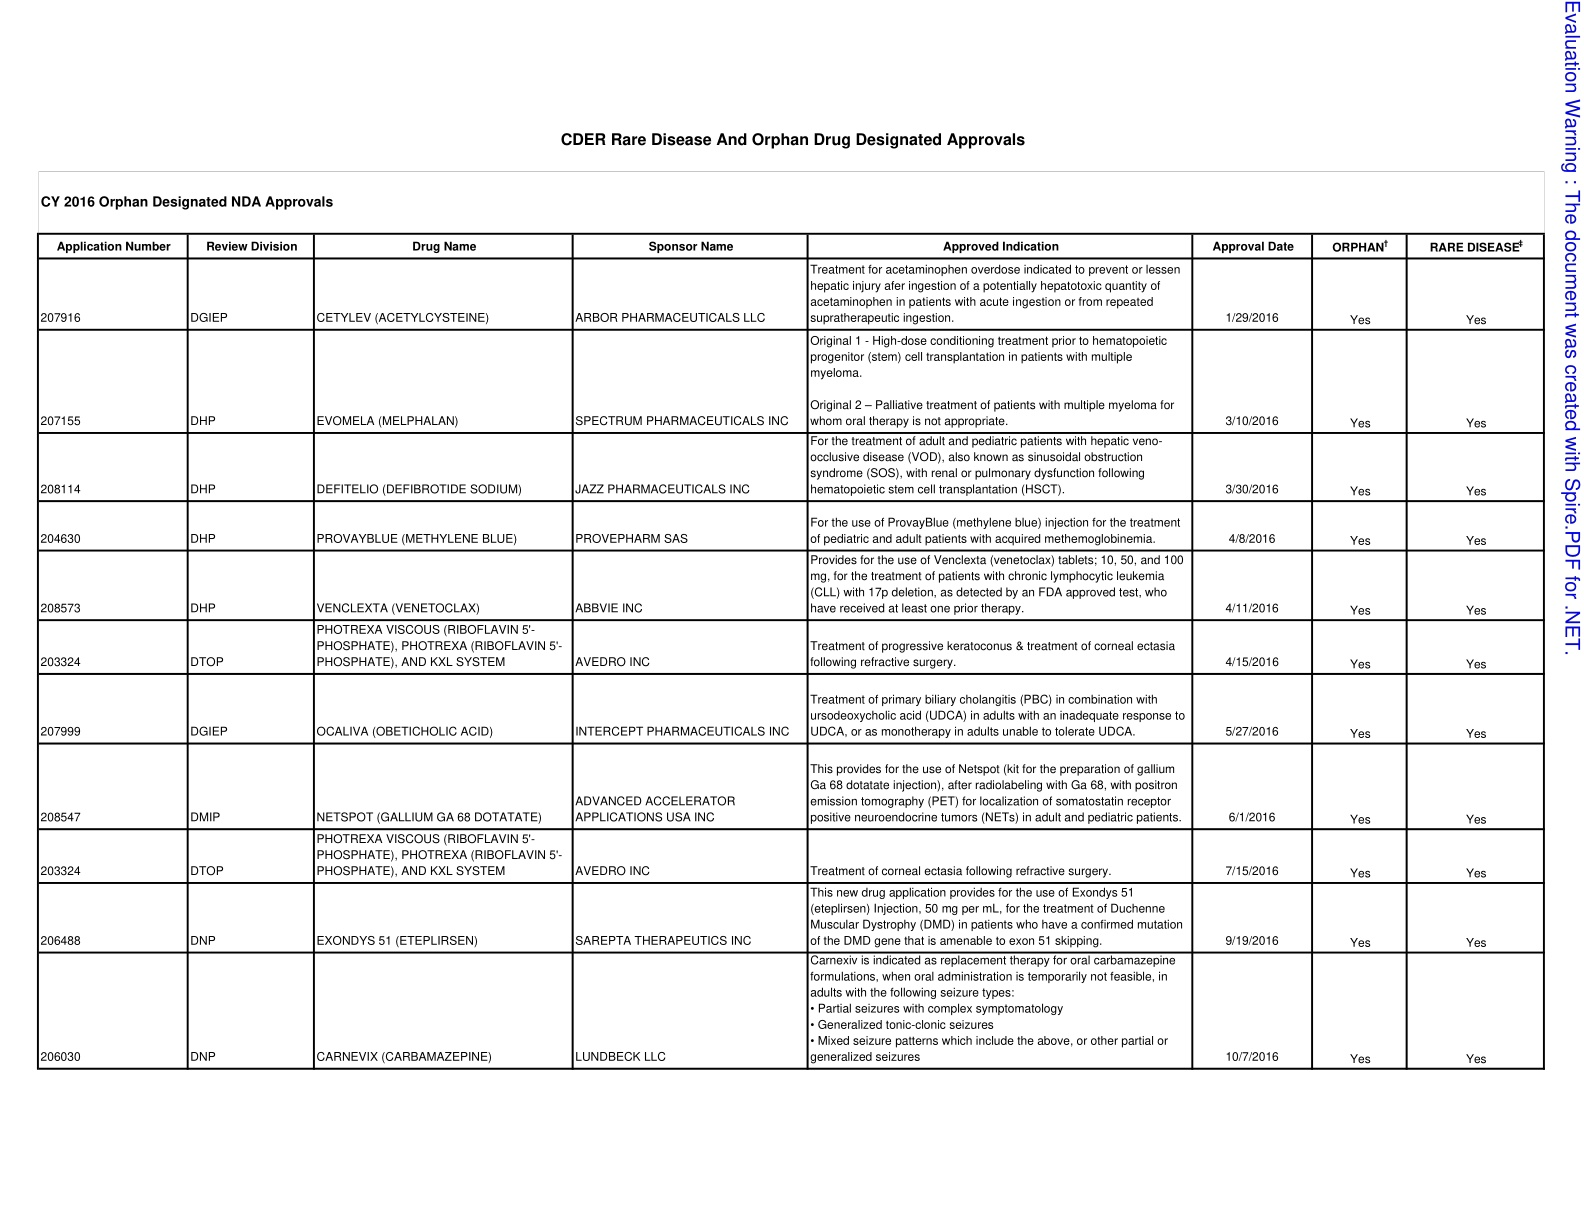full_lined: (36, 231, 1545, 1070)
